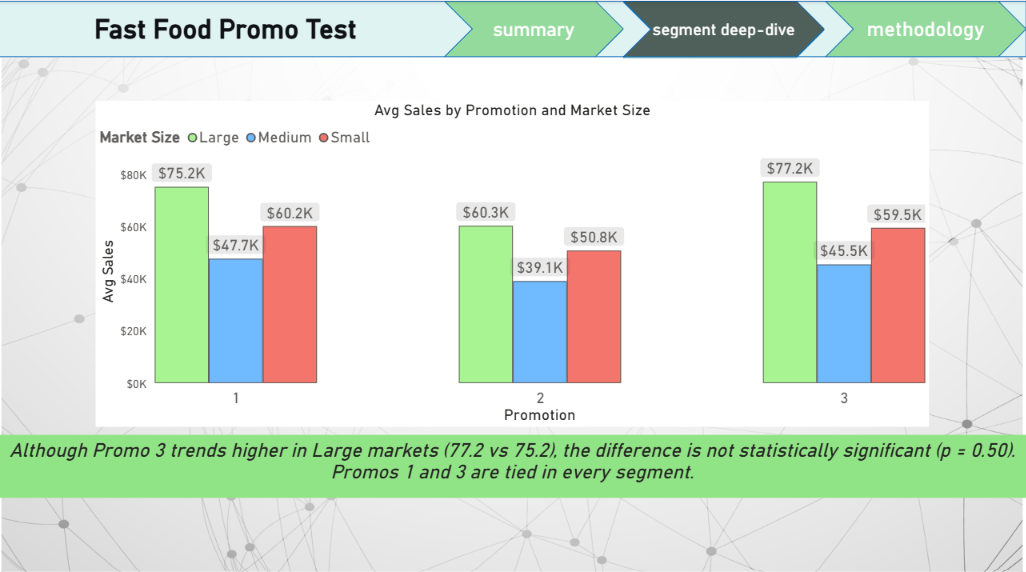

The page's visual inventory and layout, read from the dashboard file:
{"tool":"powerbi","page":{"name":"segment deep-dive","canvas":[1280,720],"ordinal":1},"visuals":[{"type":"image","box":[0,0,1280,720],"z":0},{"type":"clusteredColumnChart","title":"Avg Sales by Promotion and Market Size","fields":{"Category":["WA_Marketing-Campaign.Promotion"],"Series":["WA_Marketing-Campaign.MarketSize"],"Y":["WA_Marketing-Campaign.Avg Sales (Actually in thousands)"]},"box":[121.4,124.3,1037.1,405.7],"z":1000},{"type":"textbox","box":[0,540,1280,78.6],"z":2000},{"type":"shape","box":[0,0,1280,70],"z":3000},{"type":"textbox","box":[0,11.4,567.1,48.6],"z":4000},{"type":"shape","box":[777.1,1.4,251.4,70],"z":5000},{"type":"shape","box":[1028.6,0,251.4,70],"z":6000},{"type":"shape","box":[777.1,0,251.4,70],"z":7000},{"type":"shape","box":[554.3,0,224.3,70],"z":8000}]}

Visuals, with their boxes in screenshot pixels (x1, y1, x2, y2), scaled from the page's 1280x720 canvas onto the 1026x572 screenshot:
image: rect(0, 0, 1025, 571)
"Avg Sales by Promotion and Market Size" clusteredColumnChart: rect(97, 99, 929, 421)
textbox: rect(0, 429, 1025, 491)
shape: rect(0, 0, 1025, 56)
textbox: rect(0, 9, 455, 48)
shape: rect(623, 1, 824, 57)
shape: rect(824, 0, 1025, 56)
shape: rect(623, 0, 824, 56)
shape: rect(444, 0, 624, 56)
